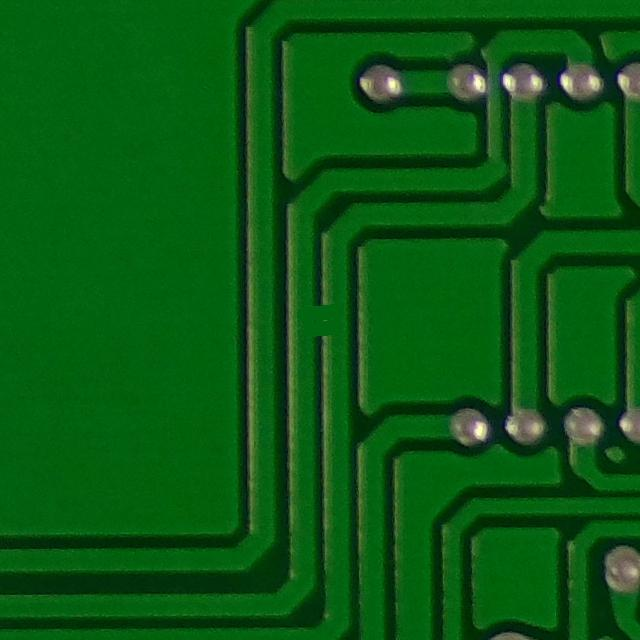short: (286, 291, 355, 349)
